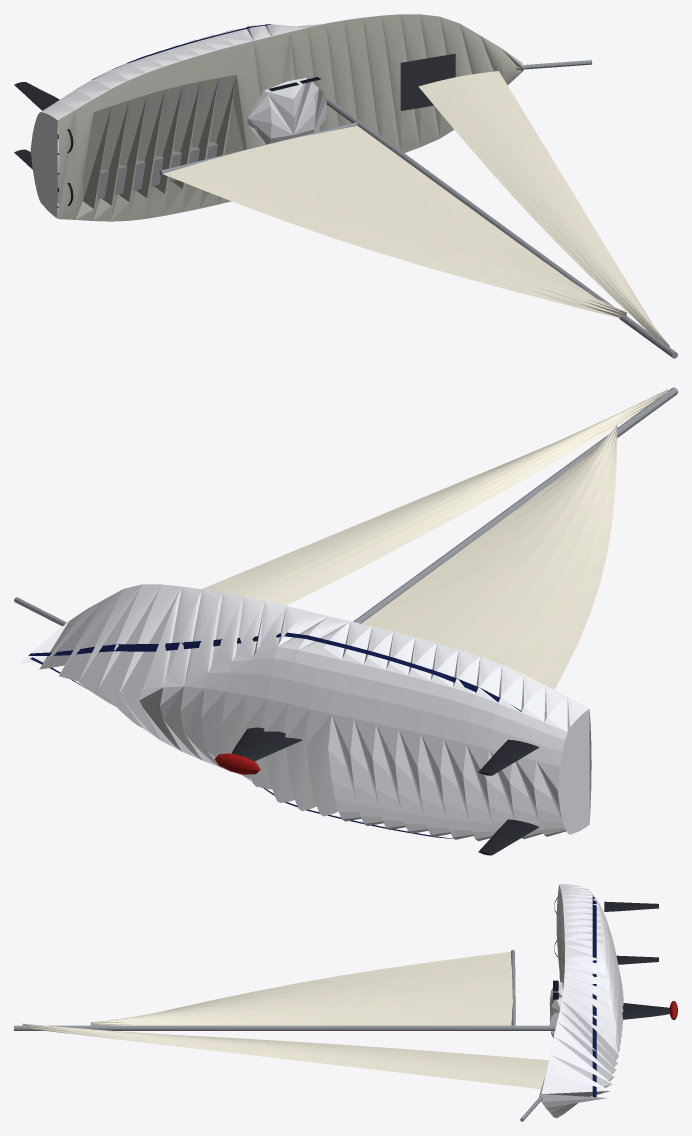
Rendered from First30_JK.obj.
3 renders of one model, top to bottom at view 1: azimuth 30°, elevation 25°; view 2: azimuth 150°, elevation 25°; view 3: azimuth 270°, elevation 25°, orthographic. The views are drawn at different scales.
Parts seen in each view (by area): view 1: Deck, Mainsail, Jib, Hull, Coachroof, Mast, Benches, Hatch, Rudders; view 2: Hull, Mainsail, Jib, Mast, Stripe, Rudders, Keel; view 3: Mainsail, Hull, Jib, Mast, Rudders, Stripe, Deck, Keel, Coachroof.
Boxes of the visible parts, x1=… form: Deck: x1=58, y1=14, x2=523, y2=221; Mainsail: x1=163, y1=125, x2=626, y2=318; Jib: x1=418, y1=71, x2=669, y2=347; Hull: x1=30, y1=21, x2=337, y2=218; Coachroof: x1=247, y1=77, x2=326, y2=144; Mast: x1=326, y1=98, x2=677, y2=358; Benches: x1=98, y1=77, x2=227, y2=199; Hatch: x1=400, y1=53, x2=455, y2=110; Rudders: x1=14, y1=82, x2=59, y2=169; Hull: x1=20, y1=584, x2=589, y2=841; Mainsail: x1=361, y1=424, x2=617, y2=689; Jib: x1=202, y1=389, x2=667, y2=605; Mast: x1=353, y1=387, x2=677, y2=623; Stripe: x1=28, y1=632, x2=521, y2=839; Rudders: x1=478, y1=739, x2=539, y2=855; Keel: x1=231, y1=727, x2=302, y2=761; Mainsail: x1=90, y1=951, x2=512, y2=1025; Hull: x1=541, y1=884, x2=623, y2=1118; Jib: x1=22, y1=1023, x2=548, y2=1089; Mast: x1=14, y1=1025, x2=555, y2=1030; Rudders: x1=604, y1=901, x2=658, y2=964; Stripe: x1=592, y1=896, x2=596, y2=1097; Deck: x1=539, y1=885, x2=564, y2=1101; Keel: x1=622, y1=1003, x2=669, y2=1019; Coachroof: x1=549, y1=982, x2=562, y2=1037.
Size of the model in its own units: 11.07 by 3.2 by 15.74.
